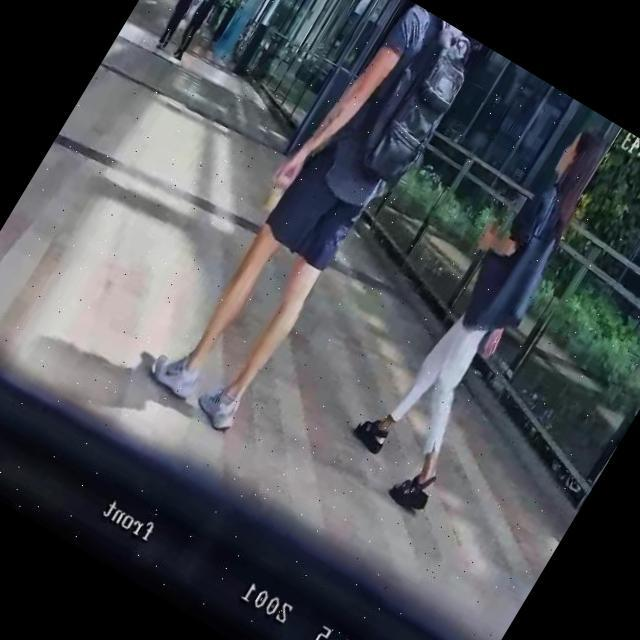person: (140, 0, 479, 445), (333, 105, 631, 513), (167, 0, 224, 61), (150, 0, 214, 54)
